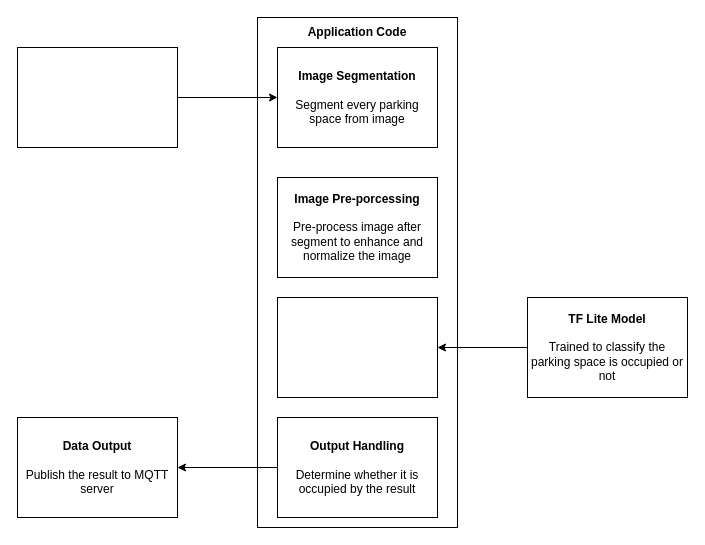
The diagram is 705 pixels wide and 545 high, and some of its shapes have lost their labels. Here are the shapes that lost their labels. From the top down, the centre of each, then its label:
pixel 97 97: Data Input Camera on Raspbarry Pi4
pixel 357 347: TF Lite Interpreter Import and run the model
